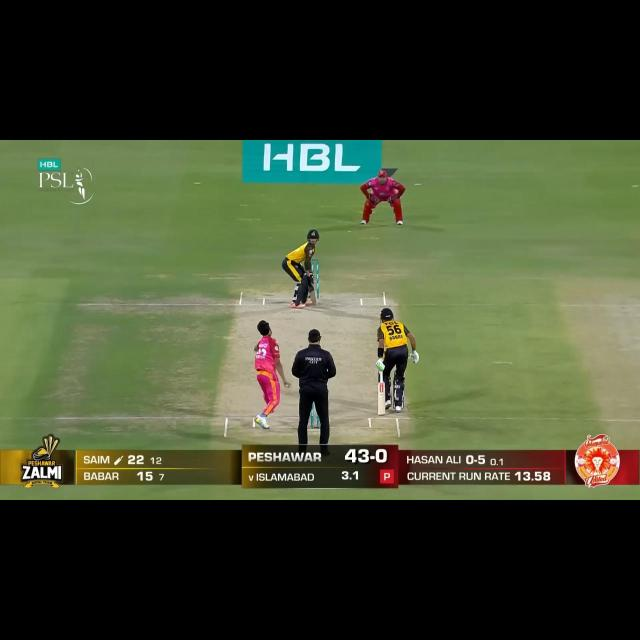bat: (306, 276, 321, 307), (376, 382, 386, 416)
toe: (308, 298, 318, 306), (375, 411, 388, 416)
